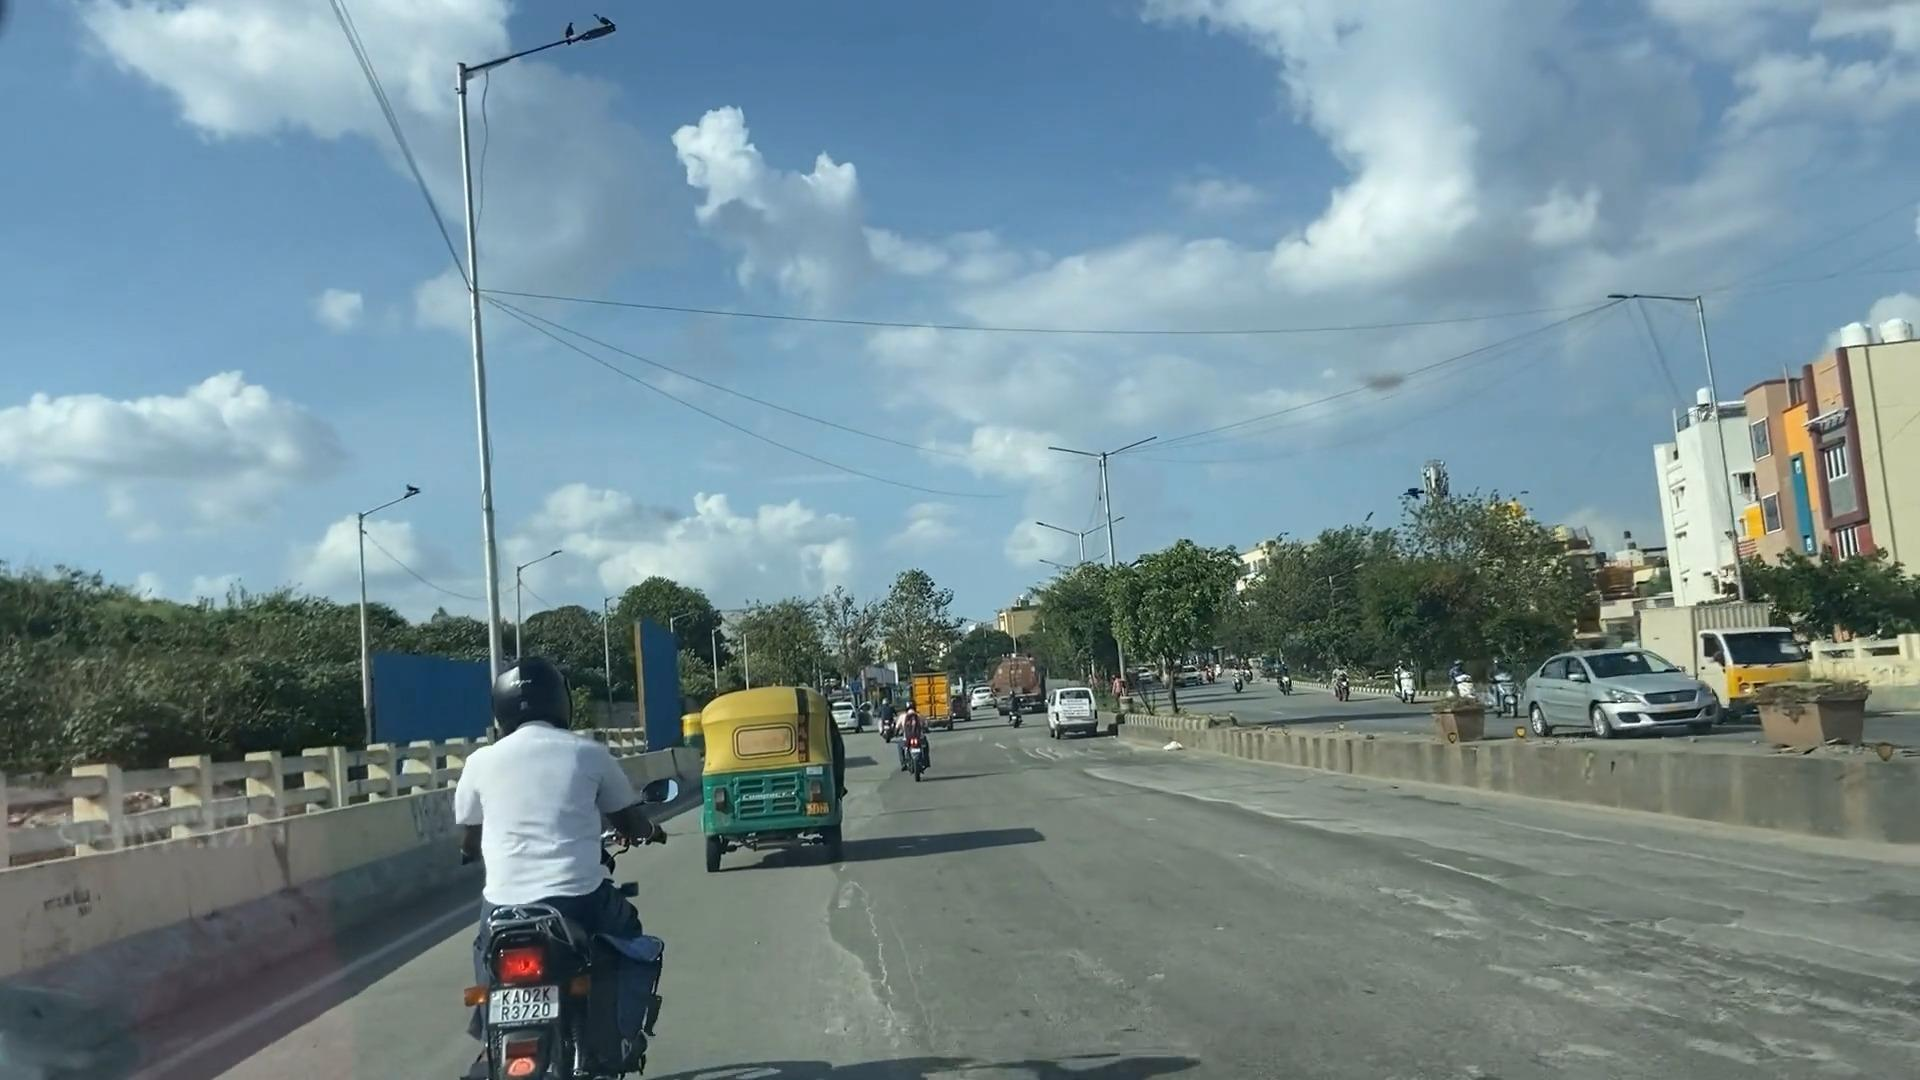RoadDamages: (1305, 833, 1919, 1080), (811, 860, 973, 1073)
